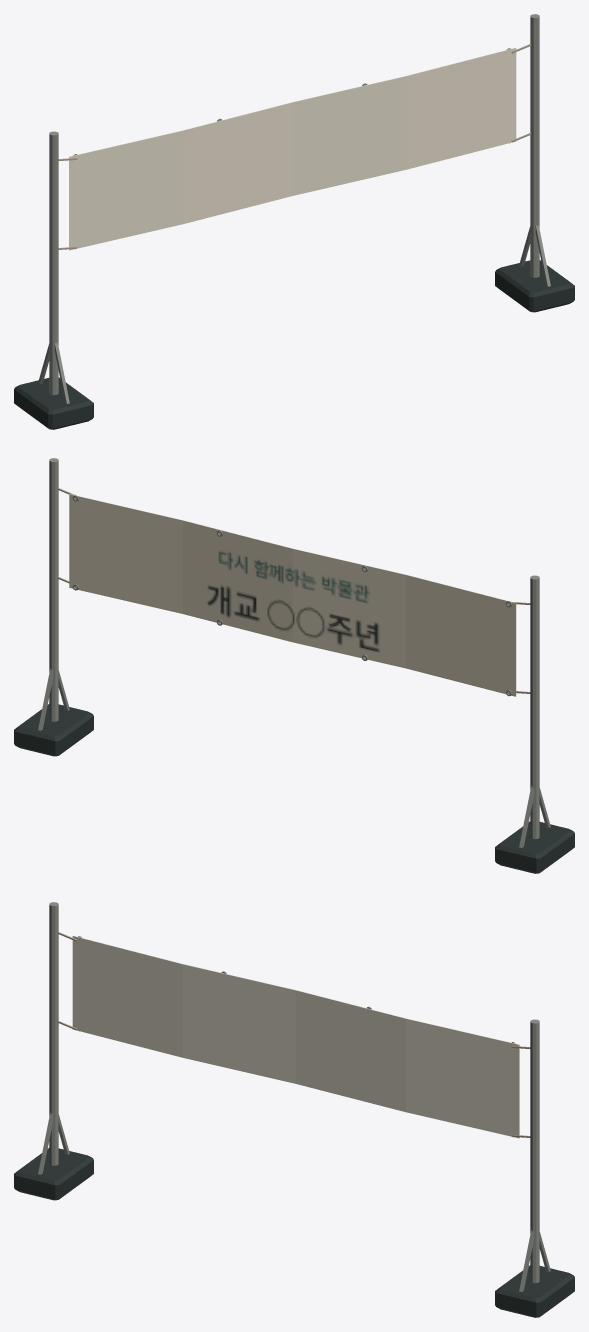
File: D04_Banner_After.fbx
3 views of the same model, one above another, from view 1: azimuth 30°, elevation 25°; view 2: azimuth 150°, elevation 25°; view 3: azimuth 330°, elevation 25° (orthographic).
Parts seen in each view (by area): view 1: Cloth_Back, Banner_Masts; view 2: Front_Banner, Banner_Masts, Cloth_Back; view 3: Cloth_Back, Banner_Masts.
Boxes of the visible parts, <box> form: Cloth_Back: <box>69,47,516,250</box>; Banner_Masts: <box>14,14,574,429</box>; Front_Banner: <box>69,494,515,696</box>; Banner_Masts: <box>14,458,574,873</box>; Cloth_Back: <box>69,494,516,696</box>; Cloth_Back: <box>72,935,519,1138</box>; Banner_Masts: <box>14,902,574,1317</box>.
Size of the model in its own units: 5.52 by 2.8 by 0.68.
Materials: 5 (1 with a texture image).
